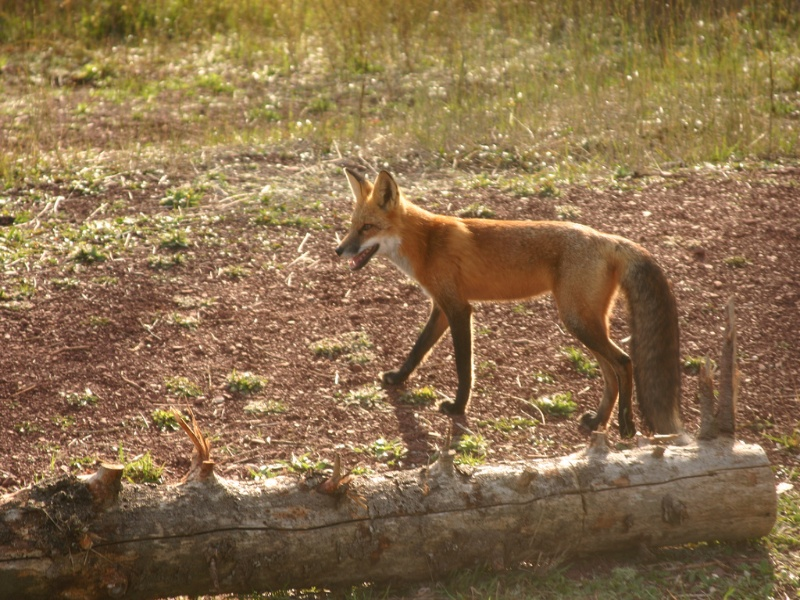fox: (333, 162, 696, 451)
